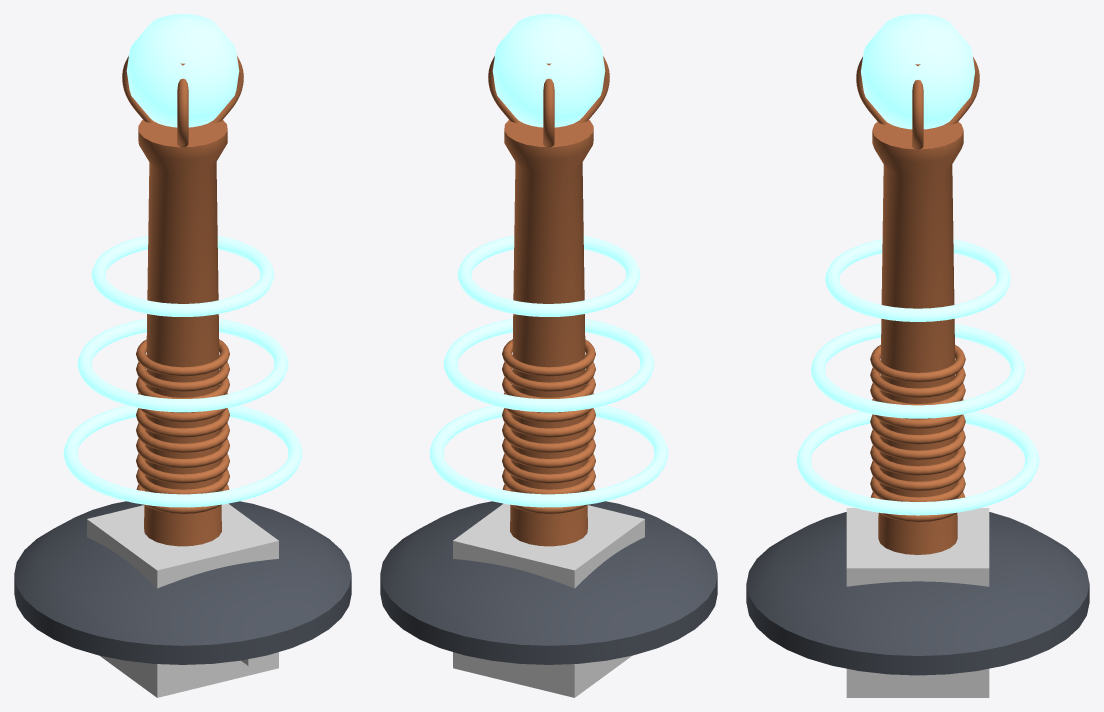
The model's file is Ionizer.fbx.
3 renders of one model, left to right at view 1: azimuth 30°, elevation 25°; view 2: azimuth 150°, elevation 25°; view 3: azimuth 270°, elevation 25°, orthographic.
Visible parts, largest first — view 1: Body__MetalDark, Body__Copper, Rings__NeonCyan, Origin__Pivot, Orb__NeonCyan; view 2: Body__MetalDark, Body__Copper, Rings__NeonCyan, Origin__Pivot, Orb__NeonCyan; view 3: Body__MetalDark, Body__Copper, Rings__NeonCyan, Origin__Pivot, Orb__NeonCyan.
Boxes of the visible parts, box(x1,y1,x2,y2) form: Body__MetalDark: box(14, 501, 351, 664); Body__Copper: box(122, 56, 243, 546); Rings__NeonCyan: box(63, 235, 302, 507); Origin__Pivot: box(87, 503, 278, 697); Orb__NeonCyan: box(126, 14, 239, 127); Body__MetalDark: box(380, 501, 717, 664); Body__Copper: box(488, 56, 609, 546); Rings__NeonCyan: box(429, 235, 668, 507); Origin__Pivot: box(453, 503, 644, 697); Orb__NeonCyan: box(492, 14, 605, 127); Body__MetalDark: box(746, 512, 1089, 675); Body__Copper: box(856, 57, 979, 554); Rings__NeonCyan: box(796, 239, 1039, 515); Origin__Pivot: box(846, 508, 989, 697); Orb__NeonCyan: box(861, 14, 974, 129).
Size of the model in its own units: 2.4 by 5 by 2.4.
